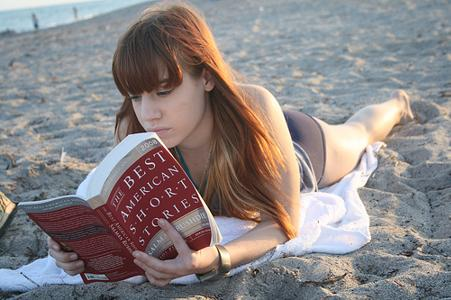person: (47, 6, 416, 291)
